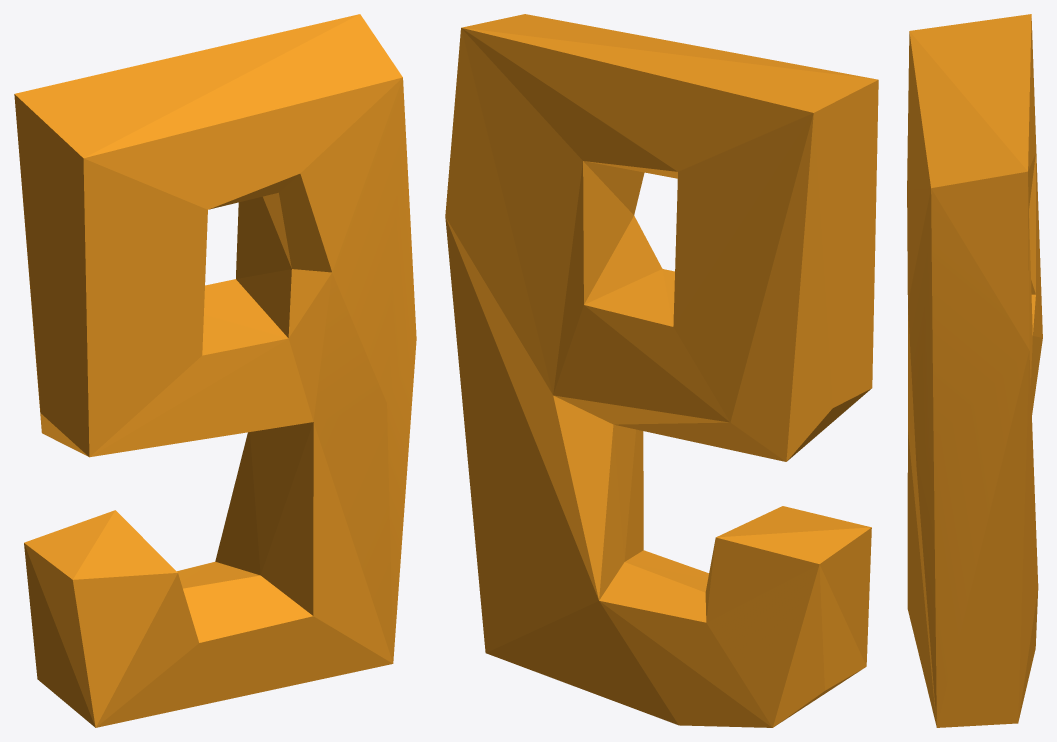
The model's file is SM_Icon_Number_9_01.fbx.
The picture shows the model from 3 angles, left to right: view 1: azimuth 30°, elevation 25°; view 2: azimuth 150°, elevation 25°; view 3: azimuth 270°, elevation 25°; orthographic projection. The views are drawn at different scales.
Visible parts, largest first — view 1: SM_Icon_Number_9_01; view 2: SM_Icon_Number_9_01; view 3: SM_Icon_Number_9_01.
Part boxes in pixels (bbox=[...]): SM_Icon_Number_9_01: bbox=[14, 14, 416, 727]; SM_Icon_Number_9_01: bbox=[445, 14, 878, 727]; SM_Icon_Number_9_01: bbox=[907, 14, 1042, 727].
Size of the model in its own units: 31.56 by 52.47 by 11.21.
